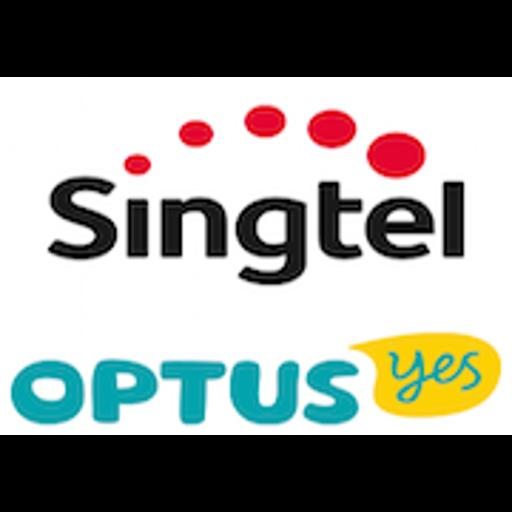Singtel Optus: (0, 77, 512, 435)
